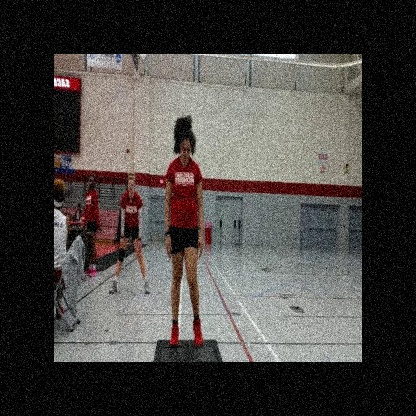lateral_flexion_right: (164, 113, 206, 354)
stance_width_normal: (164, 158, 204, 350)
